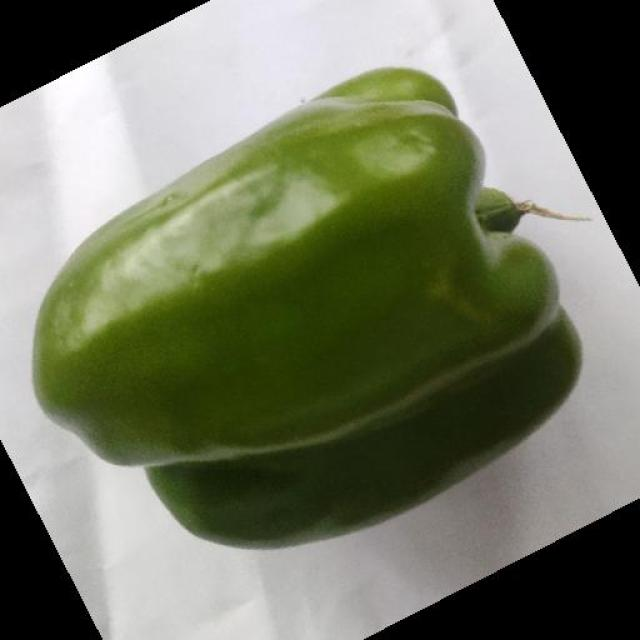Fresh_Capsicum: (46, 89, 613, 534)
